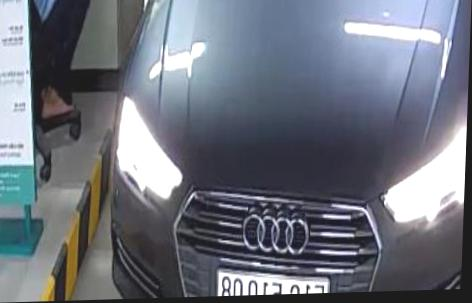License_Plate: (212, 269, 329, 295)
